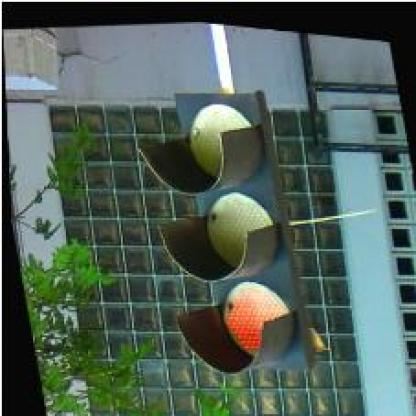red: (146, 72, 312, 378)
